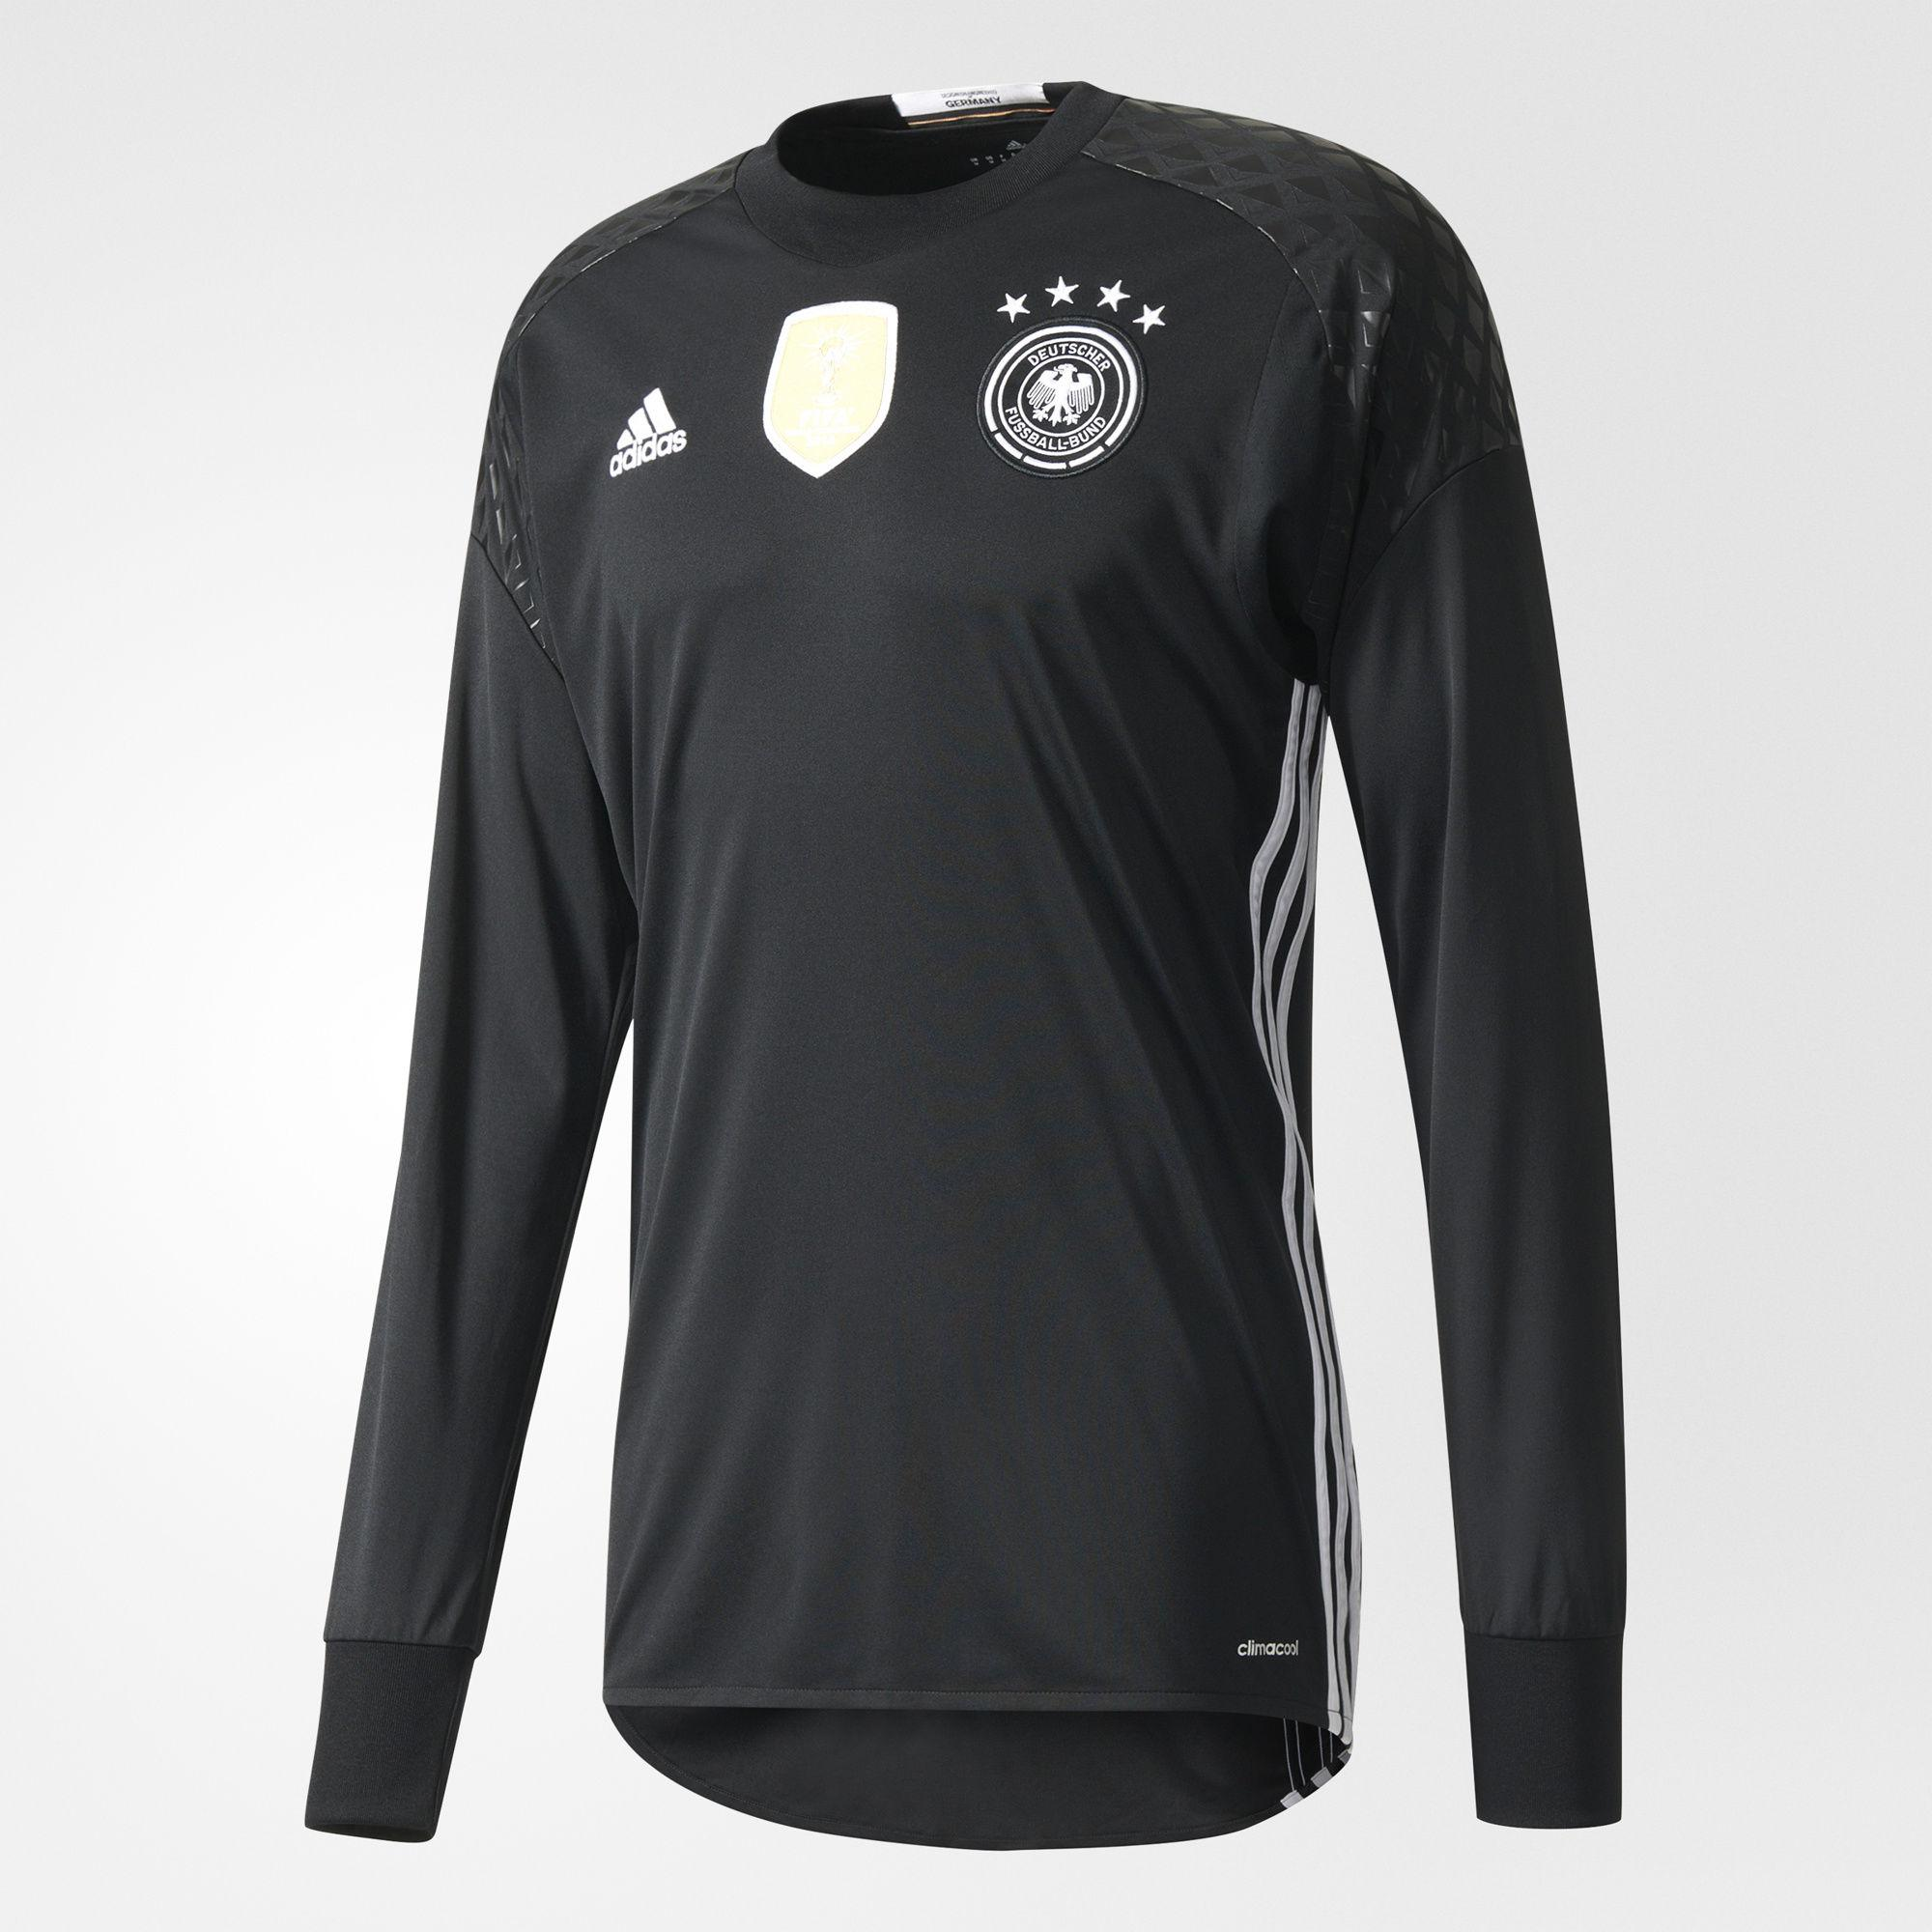teeshirt: (196, 81, 1698, 1932)
